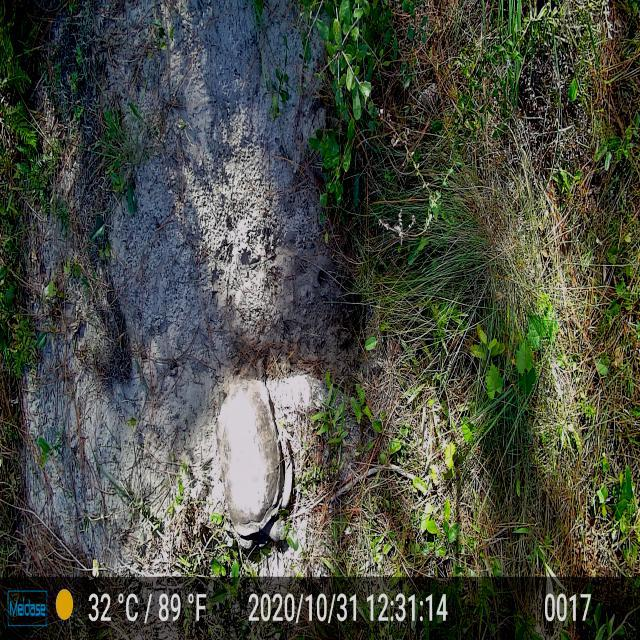tortoise: (216, 378, 298, 564)
